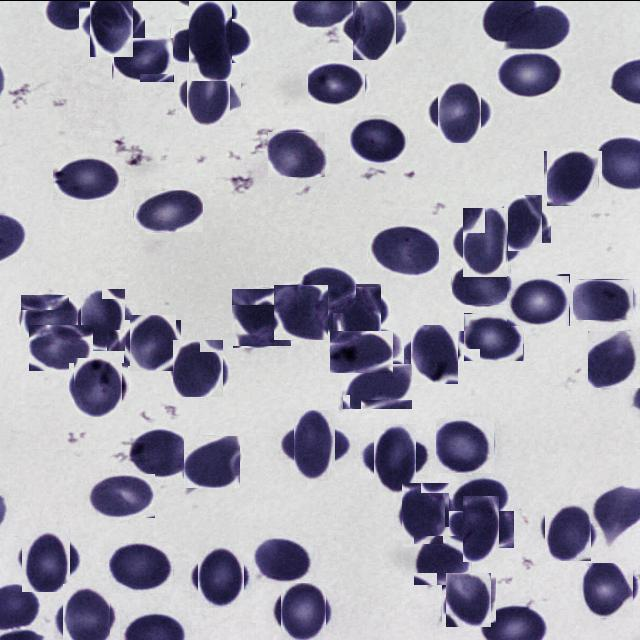red blood cell: (180, 9, 242, 72), (368, 224, 438, 276), (232, 288, 290, 346), (497, 49, 564, 98), (507, 274, 570, 326), (457, 213, 514, 270), (342, 362, 412, 408), (109, 542, 173, 592), (286, 417, 343, 473), (436, 417, 494, 472), (52, 155, 124, 199), (367, 429, 423, 485), (398, 486, 454, 542), (18, 531, 74, 587), (193, 548, 248, 604), (329, 286, 384, 342), (504, 4, 570, 50), (546, 148, 600, 204), (59, 587, 116, 640), (407, 326, 461, 381), (274, 284, 328, 339), (72, 359, 126, 414), (588, 330, 640, 387), (29, 324, 93, 370), (76, 292, 130, 346), (182, 67, 236, 121), (171, 340, 225, 394), (580, 562, 634, 616), (184, 435, 240, 487), (89, 473, 155, 517), (414, 534, 472, 584), (134, 189, 203, 231), (464, 312, 524, 360), (350, 113, 408, 162), (542, 504, 594, 558), (348, 2, 402, 54), (432, 86, 486, 138), (112, 36, 174, 81), (85, 0, 140, 50), (308, 60, 365, 108), (278, 584, 330, 636), (450, 478, 514, 520), (268, 130, 326, 176), (254, 537, 313, 582), (127, 316, 178, 368), (455, 503, 507, 554), (330, 330, 393, 372), (134, 429, 189, 477), (21, 293, 78, 339), (301, 266, 356, 312), (573, 278, 634, 319), (444, 574, 494, 624), (452, 264, 511, 304), (499, 198, 547, 246)
